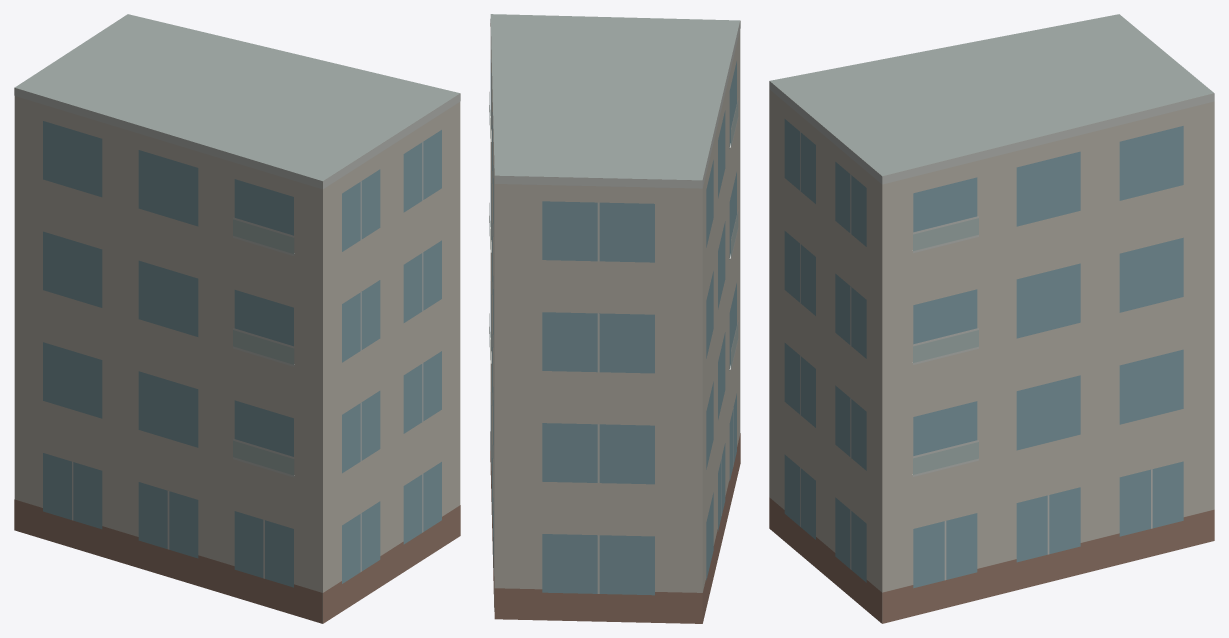
Rendered from survey-upis-32723565.glb.
3 renders of one model, left to right at view 1: azimuth 30°, elevation 25°; view 2: azimuth 150°, elevation 25°; view 3: azimuth 270°, elevation 25°, orthographic.
Parts seen in each view (by area): view 1: survey-upis-32723565.tmp; view 2: survey-upis-32723565.tmp; view 3: survey-upis-32723565.tmp.
Boxes of the visible parts, box(x1,y1,x2,y2) form: survey-upis-32723565.tmp: box(14, 14, 460, 623); survey-upis-32723565.tmp: box(489, 14, 740, 623); survey-upis-32723565.tmp: box(769, 14, 1214, 623).
Bounding box in the file's own units: 10.27 × 13.2 × 11.91.
